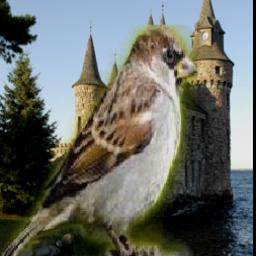Sparrow: (0, 25, 198, 256)
